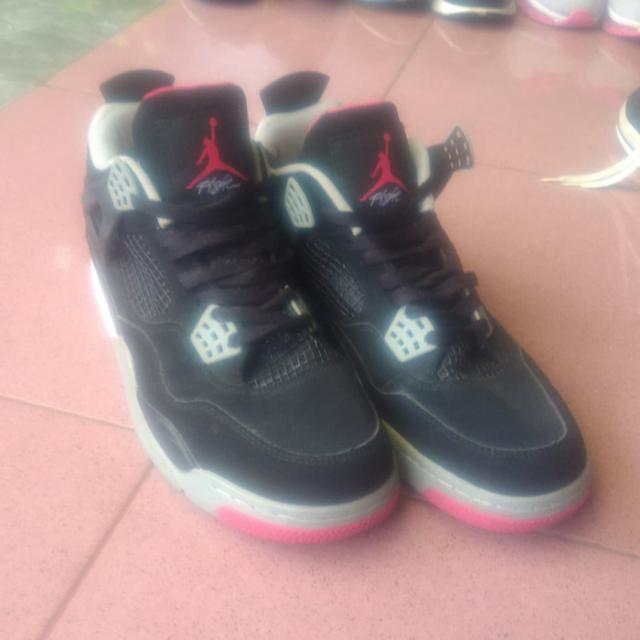shoe: (10, 25, 357, 612), (347, 0, 619, 585)
